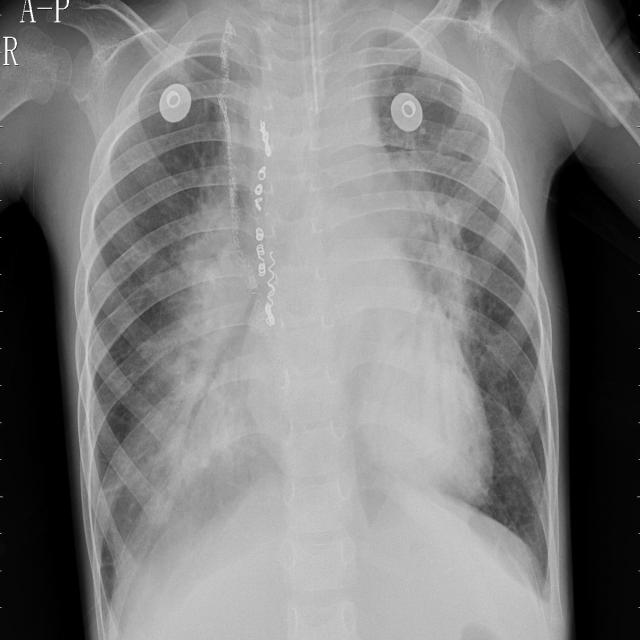high-pneumonia: (115, 147, 276, 570), (377, 129, 489, 384)
low-pneumonia: (179, 4, 271, 188), (369, 20, 470, 154)
